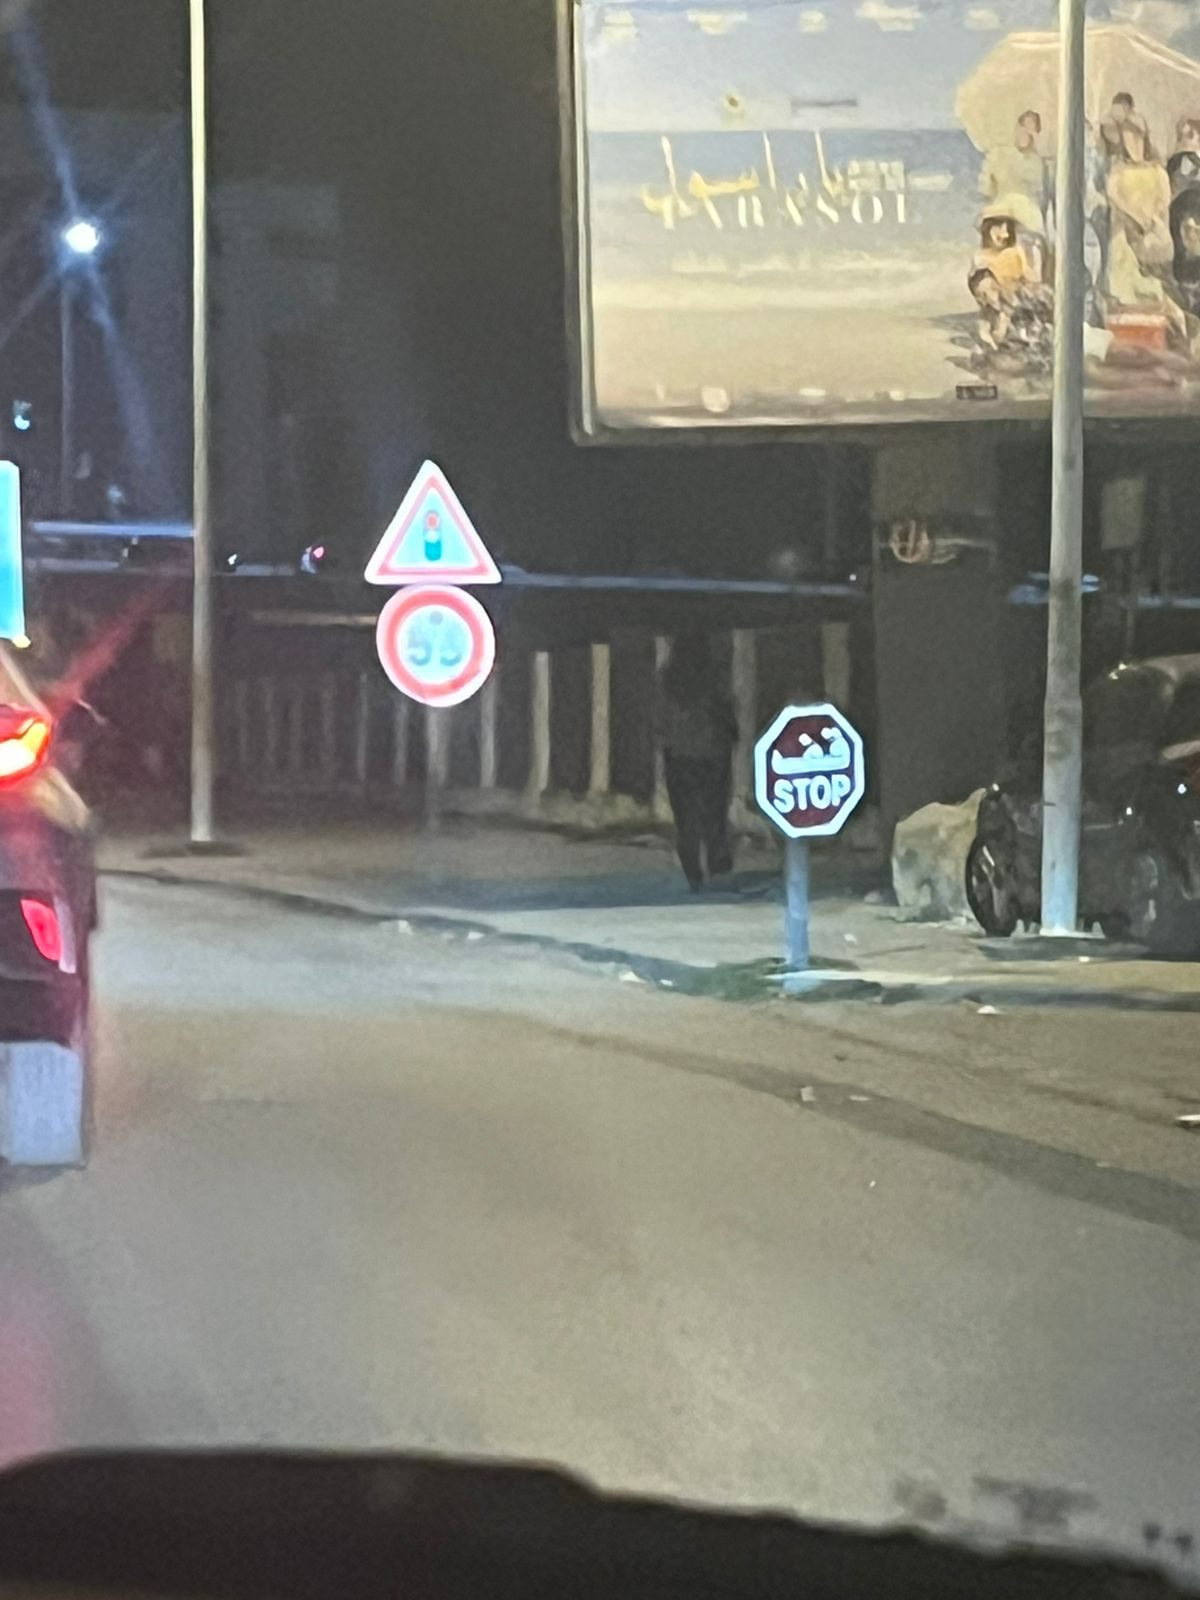SpeedLimit50: (374, 583, 497, 708)
Stop: (754, 702, 866, 839)
